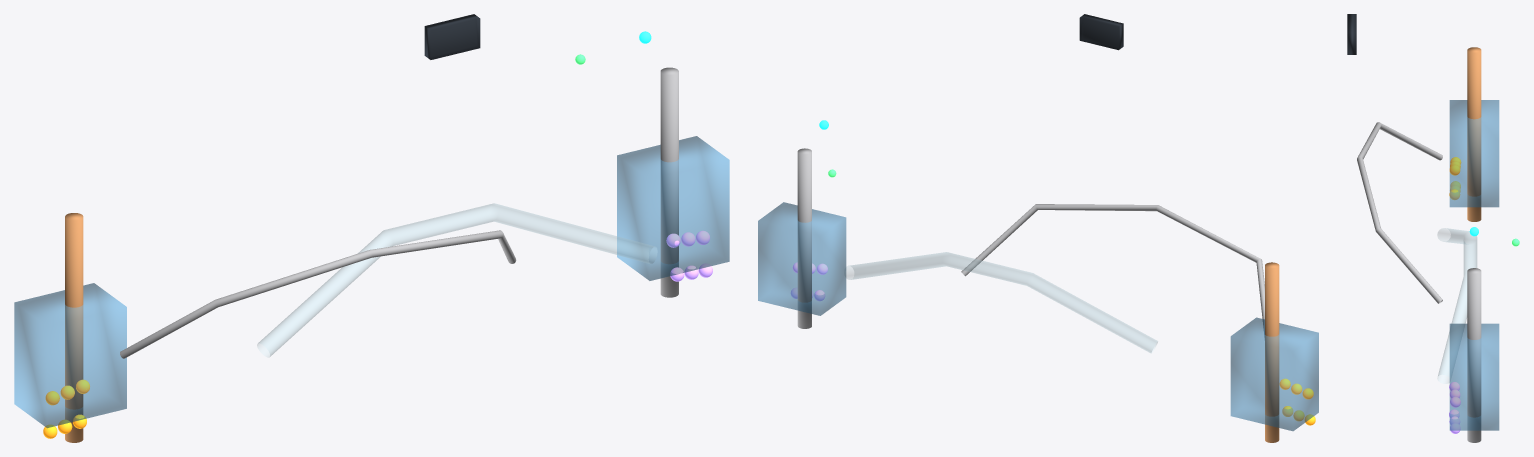
The model's file is oxydoreduction_premium.glb.
3 views of the same model, side by side, from view 1: azimuth 30°, elevation 25°; view 2: azimuth 150°, elevation 25°; view 3: azimuth 270°, elevation 25° (orthographic). The views are drawn at different scales.
Parts seen in each view (by area): view 1: DEVICE_becher_cathode, DEVICE_becher_anode, DEVICE_pont_salin, DEVICE_electrode_cathode_reduction, DEVICE_electrode_anode_oxydation, DEVICE_fil_externe_electrons, DEVICE_voltmetre_potentiel_E; view 2: DEVICE_becher_anode, DEVICE_becher_cathode, DEVICE_pont_salin, DEVICE_electrode_cathode_reduction, DEVICE_electrode_anode_oxydation, DEVICE_fil_externe_electrons, DEVICE_voltmetre_potentiel_E; view 3: DEVICE_becher_cathode, DEVICE_becher_anode, DEVICE_electrode_anode_oxydation, DEVICE_electrode_cathode_reduction, DEVICE_pont_salin, DEVICE_fil_externe_electrons, DEVICE_voltmetre_potentiel_E.
Part boxes in pixels (x1,y1,x2,y2): DEVICE_becher_cathode: [617, 136, 729, 280]; DEVICE_becher_anode: [14, 283, 126, 427]; DEVICE_pont_salin: [257, 203, 657, 357]; DEVICE_electrode_cathode_reduction: [660, 67, 678, 297]; DEVICE_electrode_anode_oxydation: [65, 213, 83, 442]; DEVICE_fil_externe_electrons: [120, 230, 516, 358]; DEVICE_voltmetre_potentiel_E: [424, 14, 480, 59]; DEVICE_becher_anode: [1230, 317, 1318, 430]; DEVICE_becher_cathode: [758, 202, 846, 315]; DEVICE_pont_salin: [844, 252, 1157, 353]; DEVICE_electrode_cathode_reduction: [797, 148, 811, 328]; DEVICE_electrode_anode_oxydation: [1265, 262, 1279, 442]; DEVICE_fil_externe_electrons: [961, 204, 1264, 337]; DEVICE_voltmetre_potentiel_E: [1079, 14, 1123, 50]; DEVICE_becher_cathode: [1449, 323, 1499, 430]; DEVICE_becher_anode: [1449, 100, 1499, 207]; DEVICE_electrode_anode_oxydation: [1467, 47, 1481, 221]; DEVICE_electrode_cathode_reduction: [1467, 268, 1481, 442]; DEVICE_pont_salin: [1437, 228, 1476, 383]; DEVICE_fil_externe_electrons: [1357, 122, 1442, 303]; DEVICE_voltmetre_potentiel_E: [1347, 14, 1356, 54].
Bounding box in the file's own units: 3.85 × 2.18 × 1.11.
